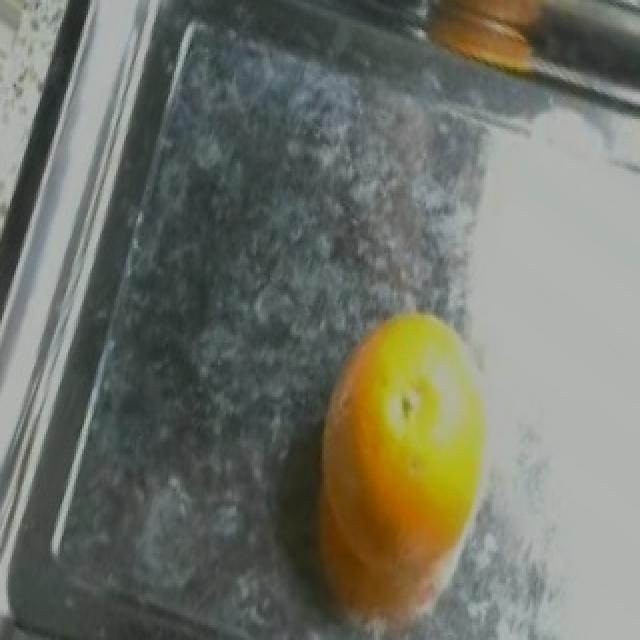Fruit: (286, 285, 512, 630)
